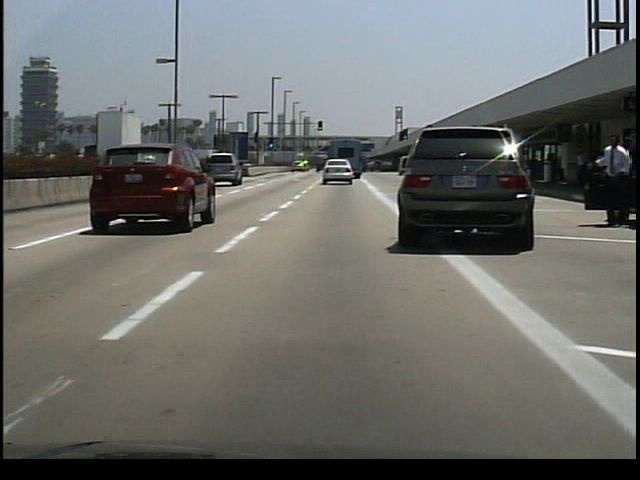person: (585, 131, 627, 227)
